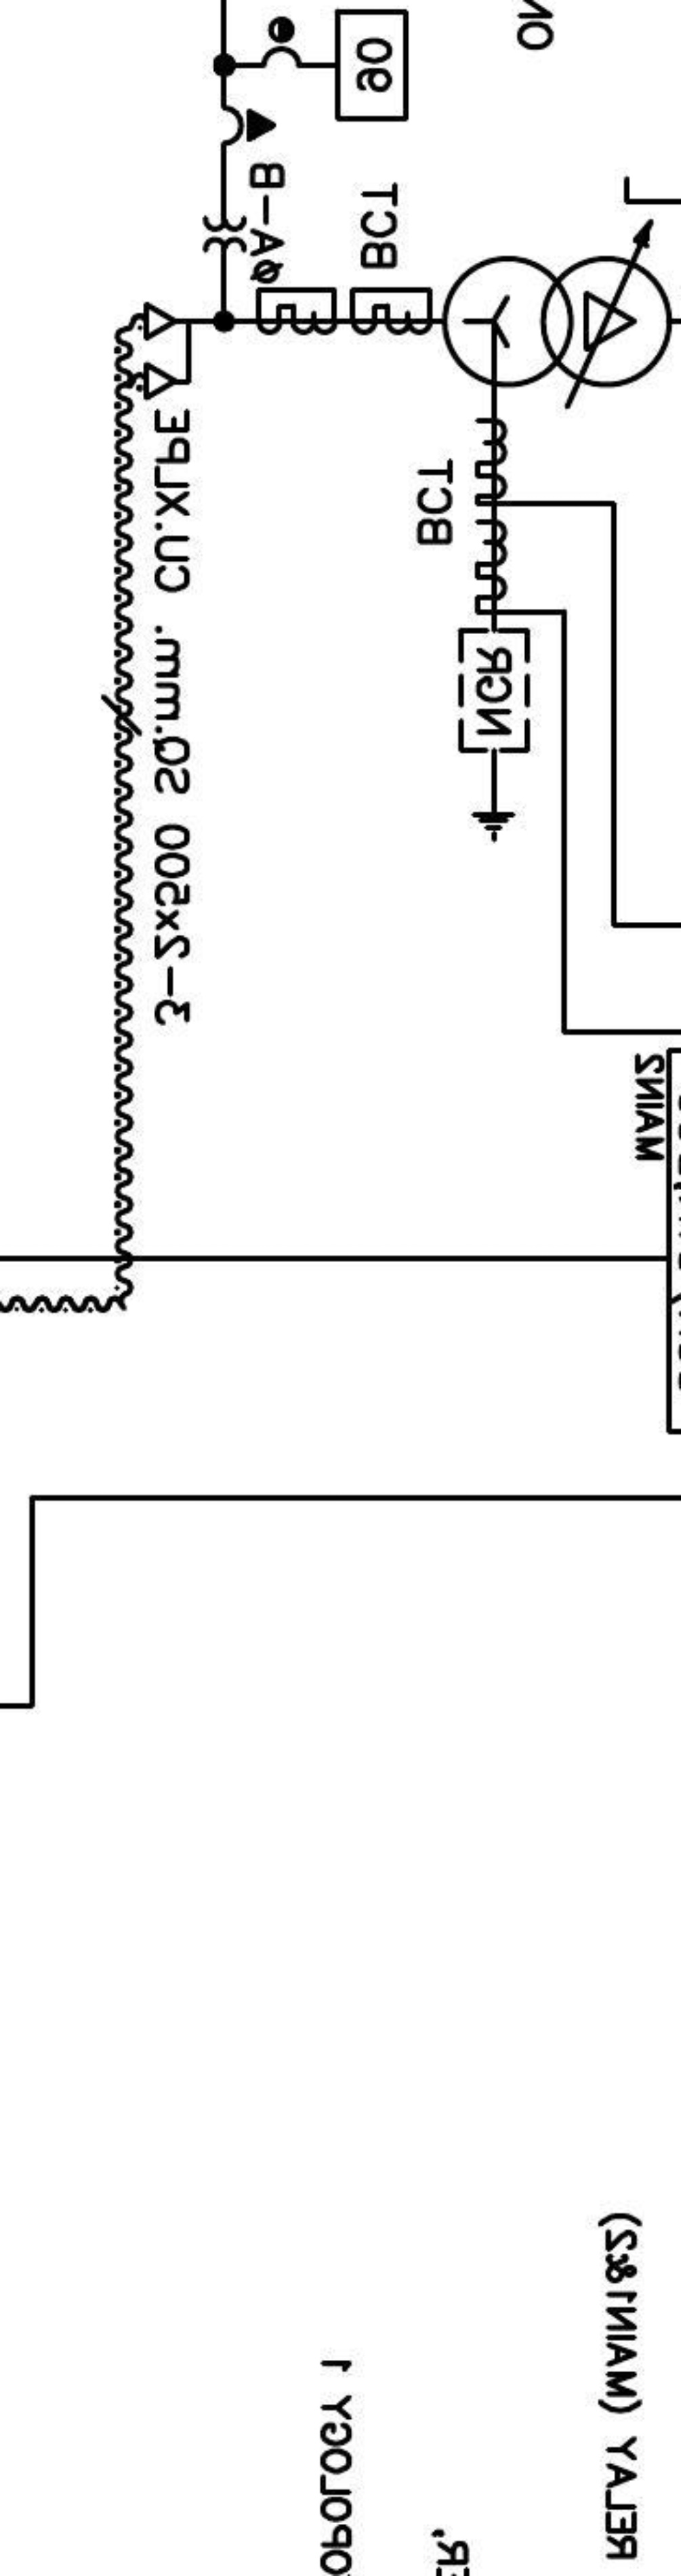11522_tx_dyn1: (441, 255, 673, 389)
NGR_future: (457, 628, 531, 844)
terminator_double: (143, 301, 192, 401)
